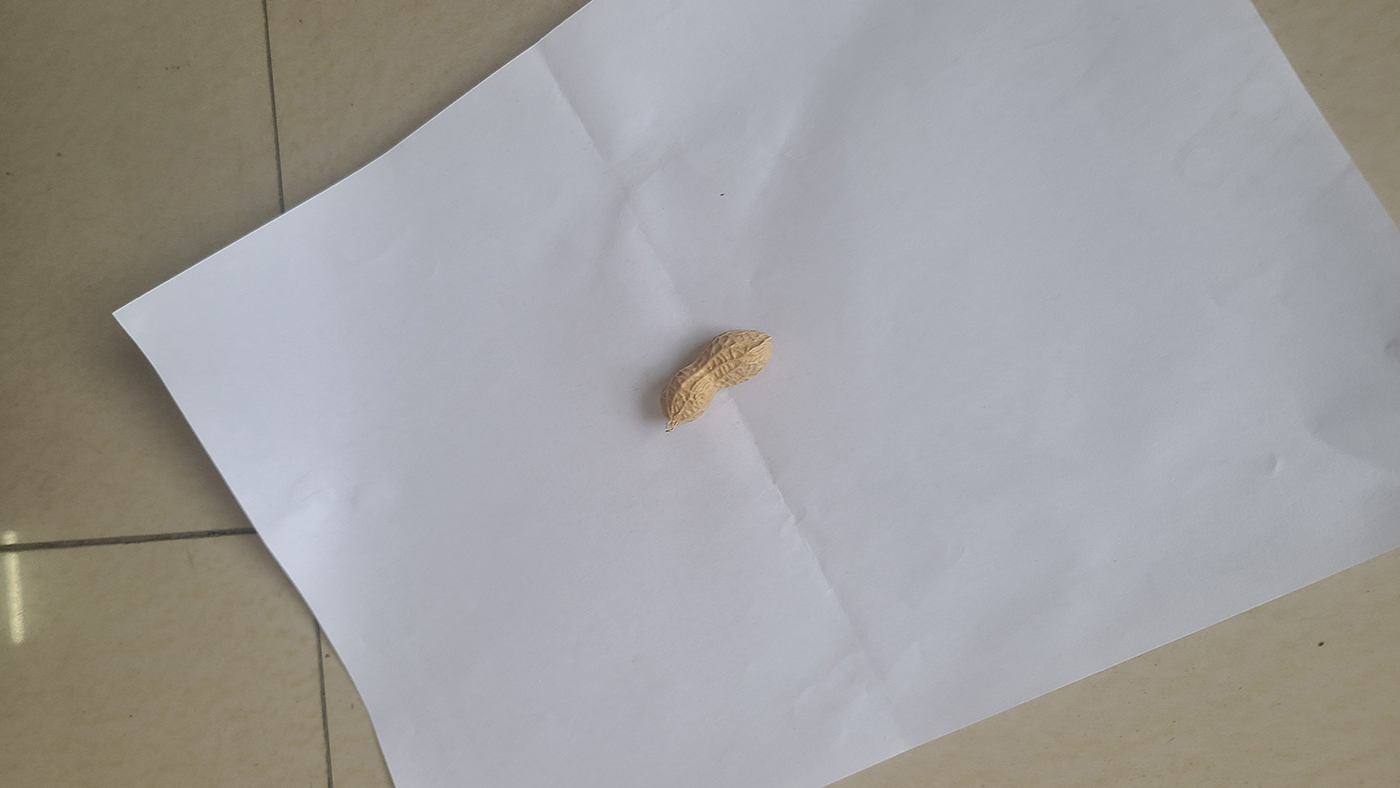h: (655, 330, 770, 428)
